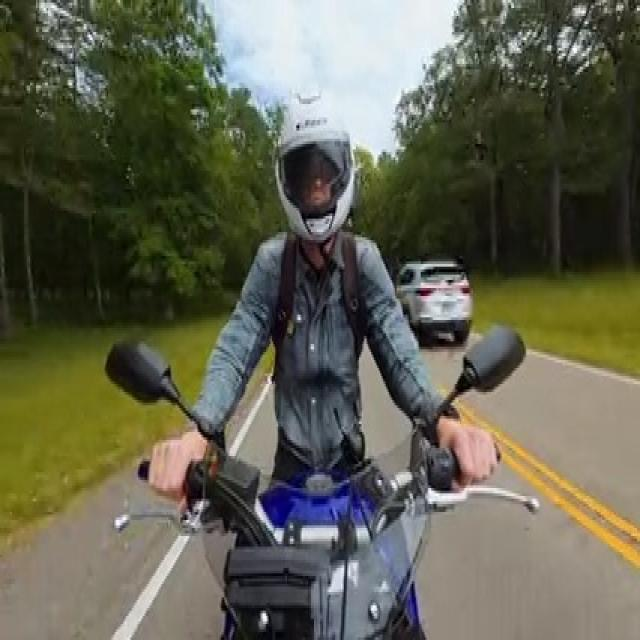Helmet_Wearer: (269, 79, 363, 244)
Person: (157, 91, 494, 527)
